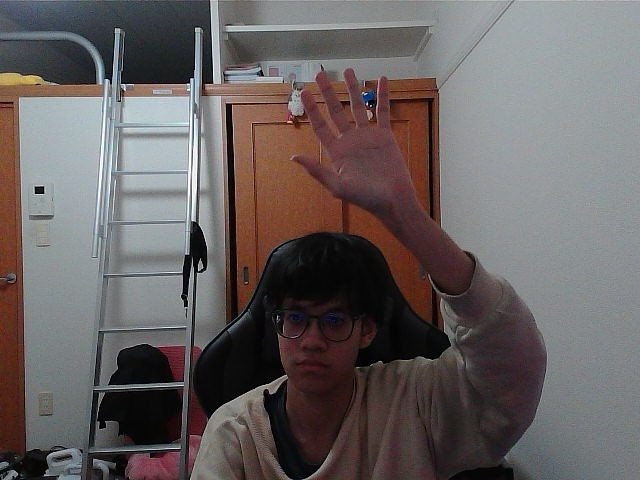open_palm: (300, 73, 390, 198)
